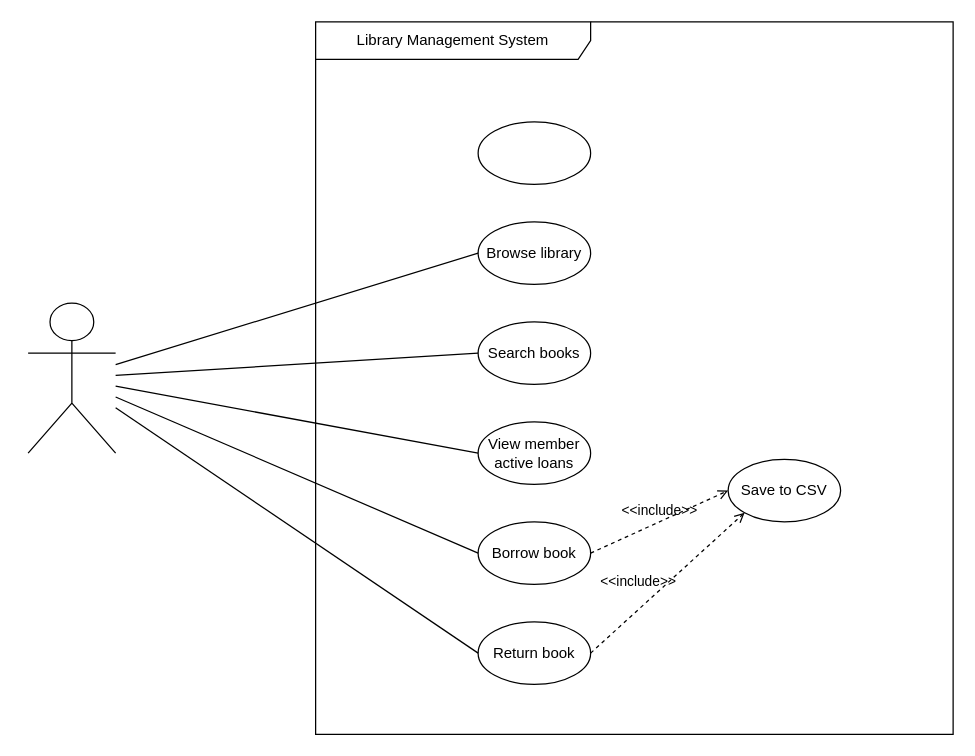
The diagram is 975 pixels wide and 756 high, and some of its shapes have lost their labels. The centre of each missing label's shape, as x and y in pixels:
"Load from CSV" belongs at point (534, 152).
"User(Librarian)" belongs at point (71, 377).
